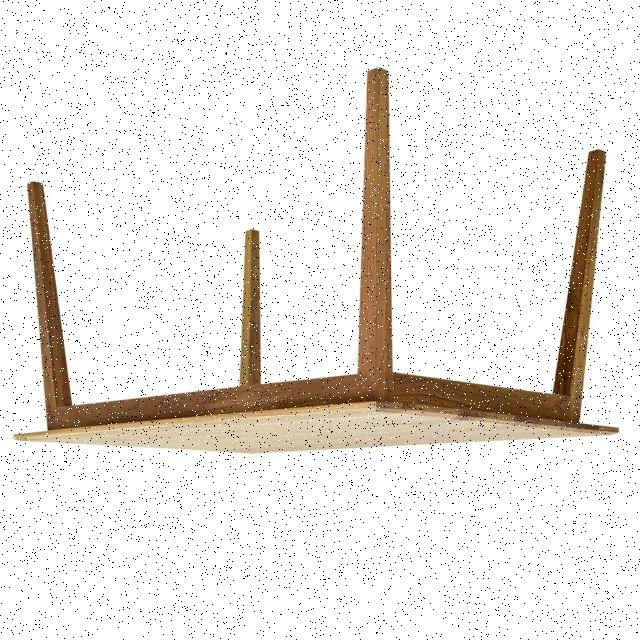mobile-phone: (12, 59, 620, 461)
